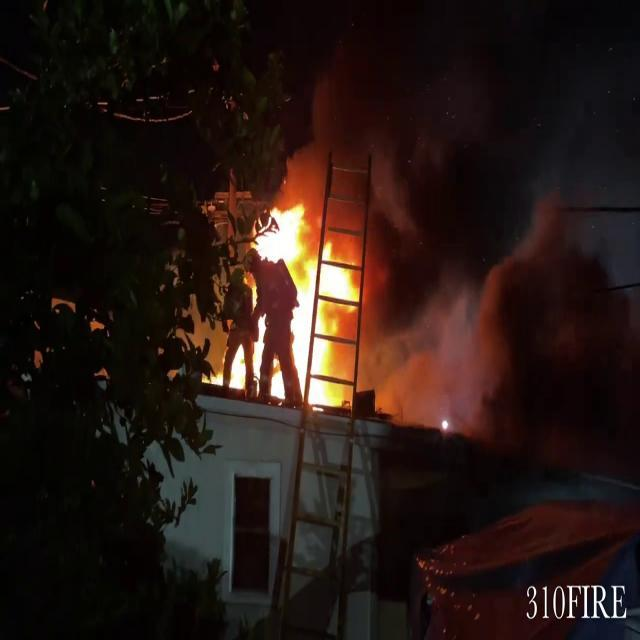Fire: (221, 197, 369, 410)
Smoke: (290, 1, 640, 248), (364, 190, 640, 452)
